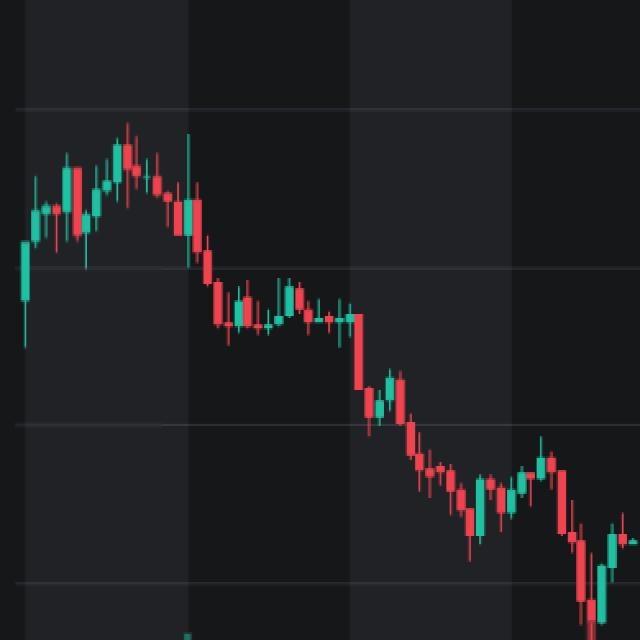Channel-down: (19, 93, 633, 640)
Support-breakout: (215, 282, 471, 525)
